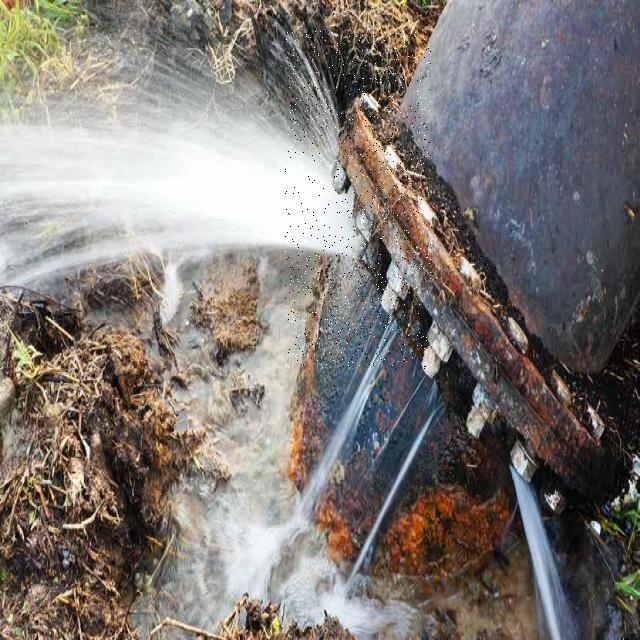pipe burst: (0, 75, 374, 304), (297, 313, 458, 584), (506, 466, 574, 640)
water accumulation: (112, 258, 412, 640)
